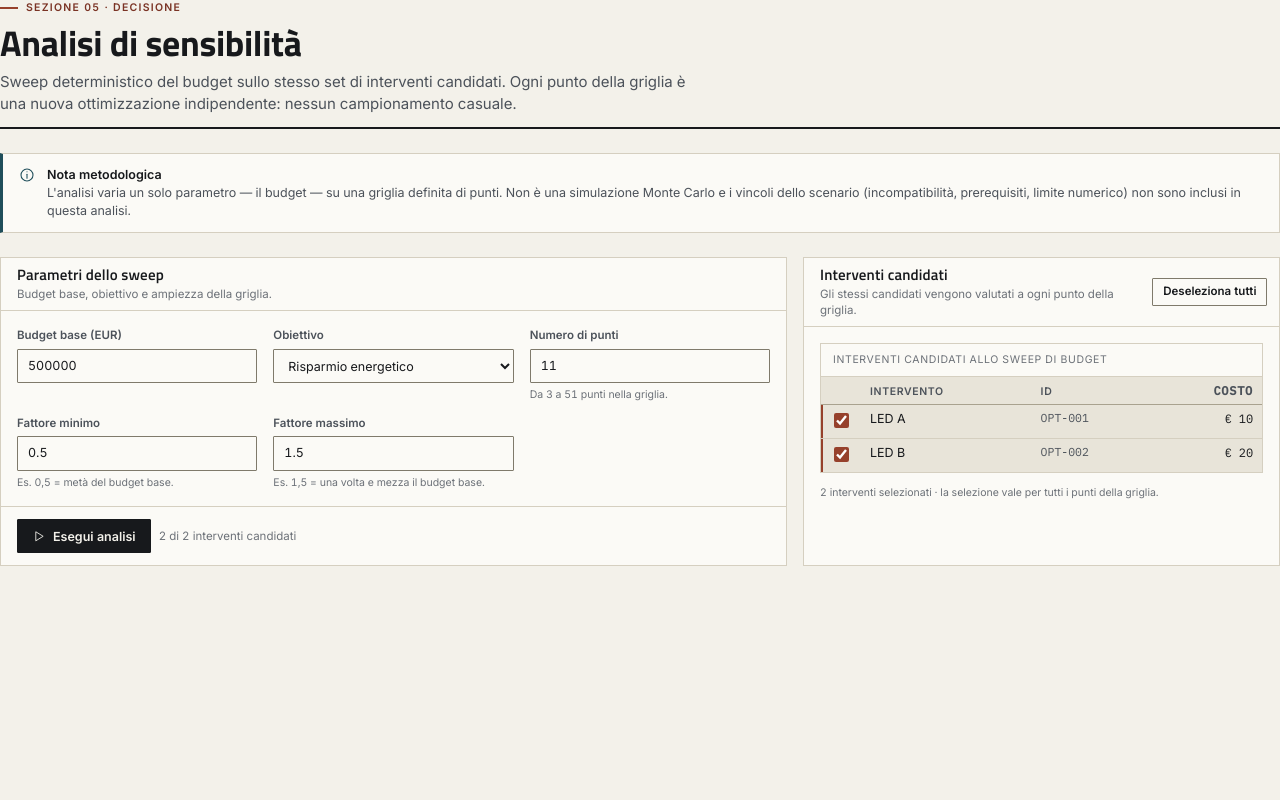
Test: SensitivityPage › esegue l'analisi e mostra i risultati
Expected: the text "LED A" is shown, [861, 404, 1032, 439]
Click the button "Esegui analisi". click: (84, 536)
box: [17, 519, 151, 553]
(page scrolled)
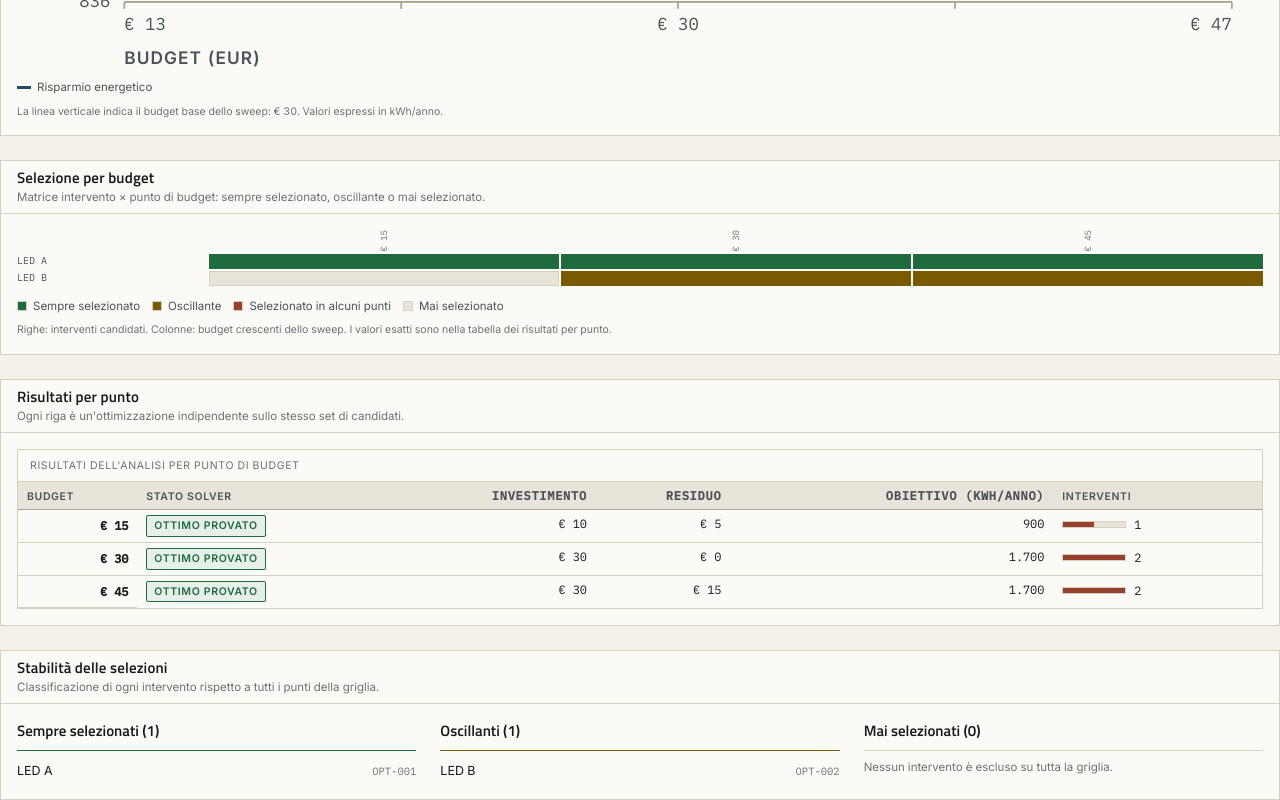
Expected: the heading "Risultati per punto" is shown, [17, 384, 139, 408]
Expected: the heading "Stabilità delle selezioni" is shown, [17, 656, 168, 679]
Expected: the heading "Sempre selezionati (1)" is shown, [17, 720, 416, 751]
